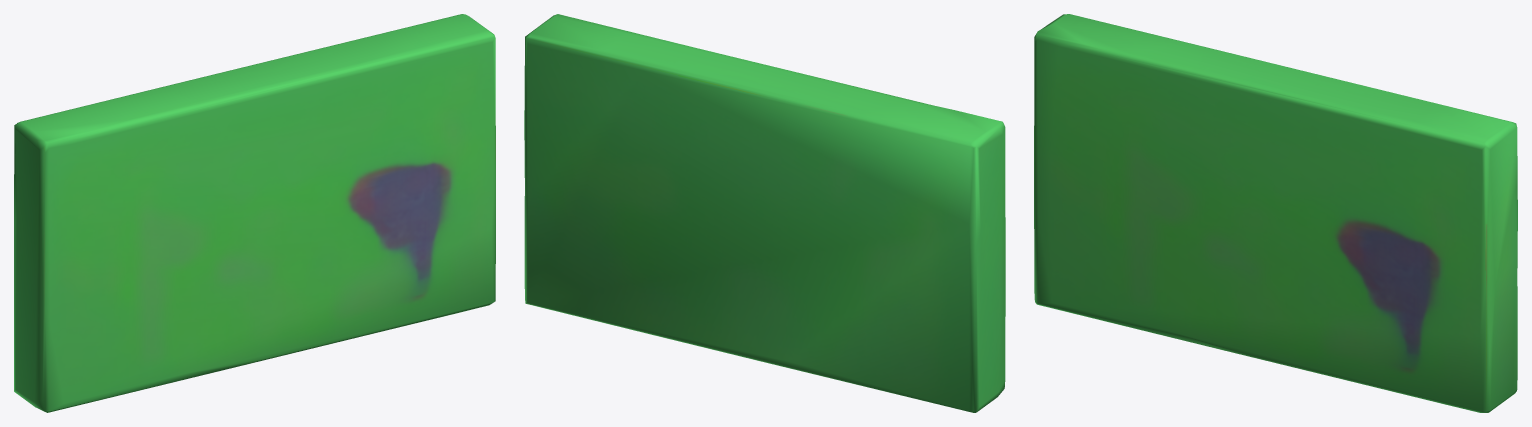
Rendered from sage-green-wall.glb.
The picture shows the model from 3 angles, left to right: view 1: azimuth 30°, elevation 25°; view 2: azimuth 150°, elevation 25°; view 3: azimuth 330°, elevation 25°; orthographic projection.
Visible parts, largest first — view 1: geometry_0.001; view 2: geometry_0.001; view 3: geometry_0.001.
Boxes of the visible parts, x1,y1,x2,y2 form: geometry_0.001: [14, 14, 495, 412]; geometry_0.001: [524, 14, 1005, 412]; geometry_0.001: [1034, 14, 1517, 412].
Size of the model in its own units: 1 by 0.5741 by 0.1233.
1 material, 1 textured.
